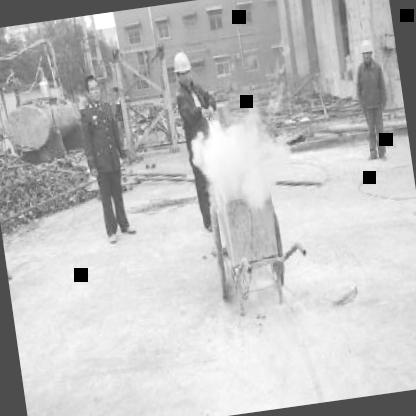helmet: (170, 46, 196, 86), (358, 36, 375, 62)
